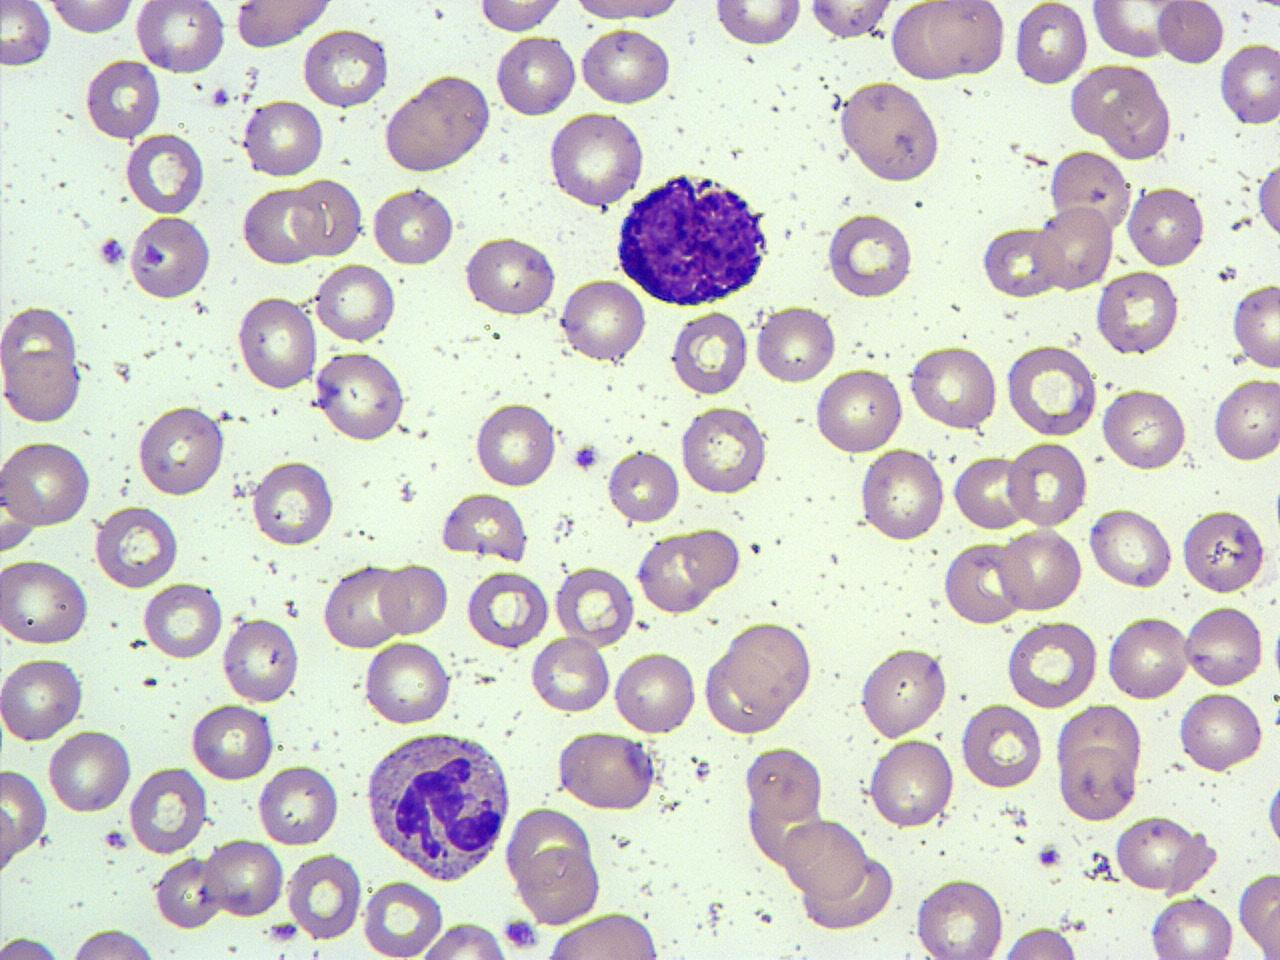Platelets: (500, 914, 540, 952), (99, 236, 128, 267), (267, 921, 302, 945), (572, 442, 600, 472), (1267, 621, 1280, 683), (1036, 844, 1062, 868), (102, 828, 128, 852), (211, 88, 228, 107), (830, 92, 844, 111)
RBC: (382, 71, 493, 176), (836, 80, 944, 184), (545, 111, 648, 210), (1053, 714, 1141, 824), (1004, 342, 1101, 438), (314, 347, 408, 444), (858, 644, 950, 742), (1005, 618, 1103, 710), (135, 403, 226, 500), (859, 445, 947, 544), (556, 729, 658, 814), (0, 436, 92, 530), (678, 403, 768, 498), (236, 292, 319, 394), (814, 364, 906, 456), (866, 736, 956, 830), (462, 233, 559, 319), (908, 342, 1000, 432), (824, 212, 916, 301), (362, 638, 454, 727), (798, 849, 894, 934), (912, 874, 1008, 959), (726, 620, 816, 710), (250, 456, 336, 550), (558, 276, 648, 365), (0, 557, 89, 647), (1104, 613, 1192, 704), (578, 24, 673, 108), (1178, 506, 1268, 594), (93, 501, 181, 591), (46, 726, 134, 816), (612, 648, 700, 738), (702, 646, 788, 738), (1004, 436, 1088, 530), (942, 536, 1029, 626), (1100, 386, 1190, 472), (300, 26, 391, 111), (474, 398, 558, 490), (220, 613, 302, 706), (126, 215, 213, 302), (1086, 504, 1174, 590), (1177, 688, 1265, 774), (1093, 268, 1179, 356), (959, 702, 1045, 790), (285, 848, 363, 944), (494, 31, 578, 119), (998, 526, 1082, 614), (0, 655, 83, 744), (256, 762, 341, 848), (464, 567, 551, 651), (1184, 601, 1266, 690), (127, 764, 208, 854), (518, 842, 603, 927), (370, 184, 456, 268), (753, 302, 839, 386), (780, 816, 868, 898), (1035, 203, 1115, 293), (670, 308, 750, 398), (132, 0, 228, 75), (1048, 149, 1132, 234), (313, 260, 398, 344), (322, 564, 405, 650), (636, 528, 718, 614), (125, 130, 206, 217), (361, 876, 444, 960), (188, 703, 276, 782), (205, 836, 287, 920), (528, 633, 612, 715), (241, 97, 326, 178), (438, 490, 531, 564), (240, 182, 320, 268), (82, 55, 162, 141), (1012, 1, 1090, 89), (1125, 184, 1205, 269), (553, 564, 635, 646), (1, 342, 81, 426), (1113, 814, 1199, 892), (744, 742, 824, 825), (1069, 62, 1155, 139), (142, 579, 223, 660), (926, 0, 1008, 79), (979, 223, 1062, 300), (951, 451, 1029, 532), (1211, 374, 1279, 465), (541, 910, 665, 959), (1147, 893, 1237, 960), (606, 447, 680, 526), (890, 1, 963, 81), (292, 176, 362, 258), (1216, 40, 1280, 128), (228, 0, 338, 51), (378, 560, 448, 640), (154, 853, 224, 932), (1103, 86, 1175, 162), (1, 764, 49, 868), (1089, 1, 1175, 59), (1154, 0, 1226, 68), (1229, 280, 1279, 372), (712, 0, 804, 49), (680, 526, 743, 590), (1236, 867, 1280, 958), (804, 0, 896, 42), (0, 0, 55, 70), (412, 920, 508, 958), (43, 0, 138, 36), (66, 926, 162, 960), (476, 0, 568, 34), (1000, 924, 1084, 960), (1254, 157, 1280, 243), (0, 934, 67, 960)
WBC: (362, 726, 516, 886), (612, 169, 774, 309)
